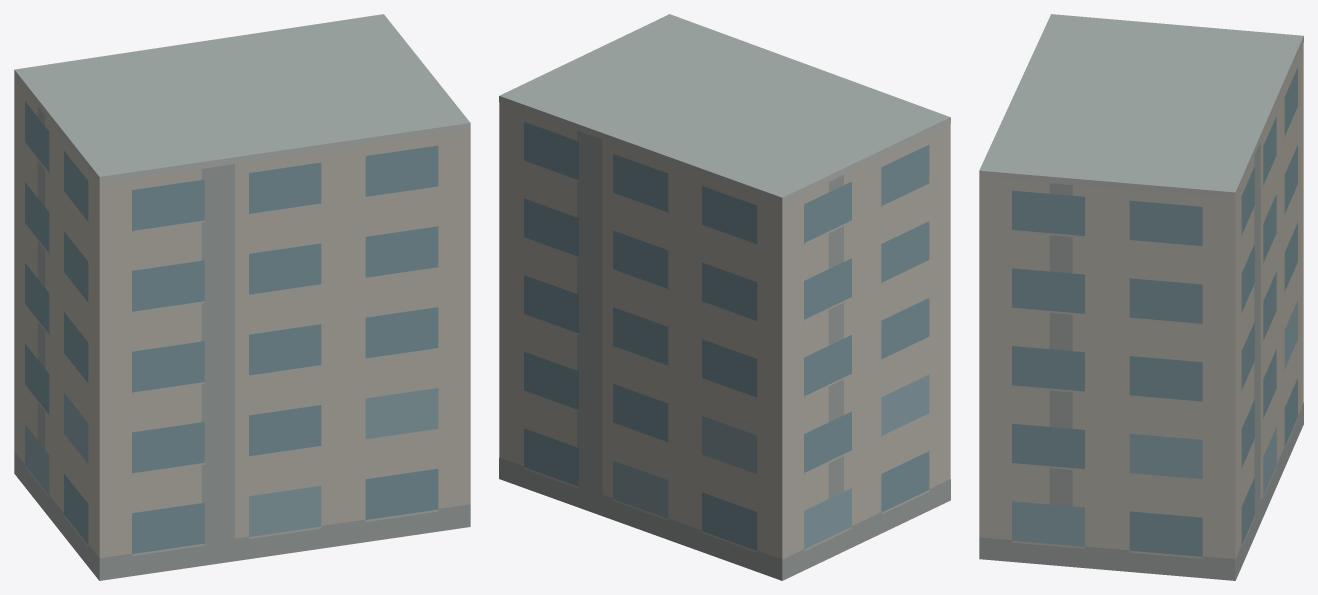
File: survey-upis-32706177.glb
3 renders of one model, left to right at view 1: azimuth 30°, elevation 25°; view 2: azimuth 150°, elevation 25°; view 3: azimuth 270°, elevation 25°, orthographic. The views are drawn at different scales.
Parts seen in each view (by area): view 1: survey-upis-32706177.tmp; view 2: survey-upis-32706177.tmp; view 3: survey-upis-32706177.tmp.
Part boxes in pixels (x1,y1,x2,y2): survey-upis-32706177.tmp: (14, 14, 470, 580); survey-upis-32706177.tmp: (499, 14, 950, 580); survey-upis-32706177.tmp: (979, 14, 1303, 580).
Bounding box in the file's own units: 14.1 × 14.3 × 10.84.
